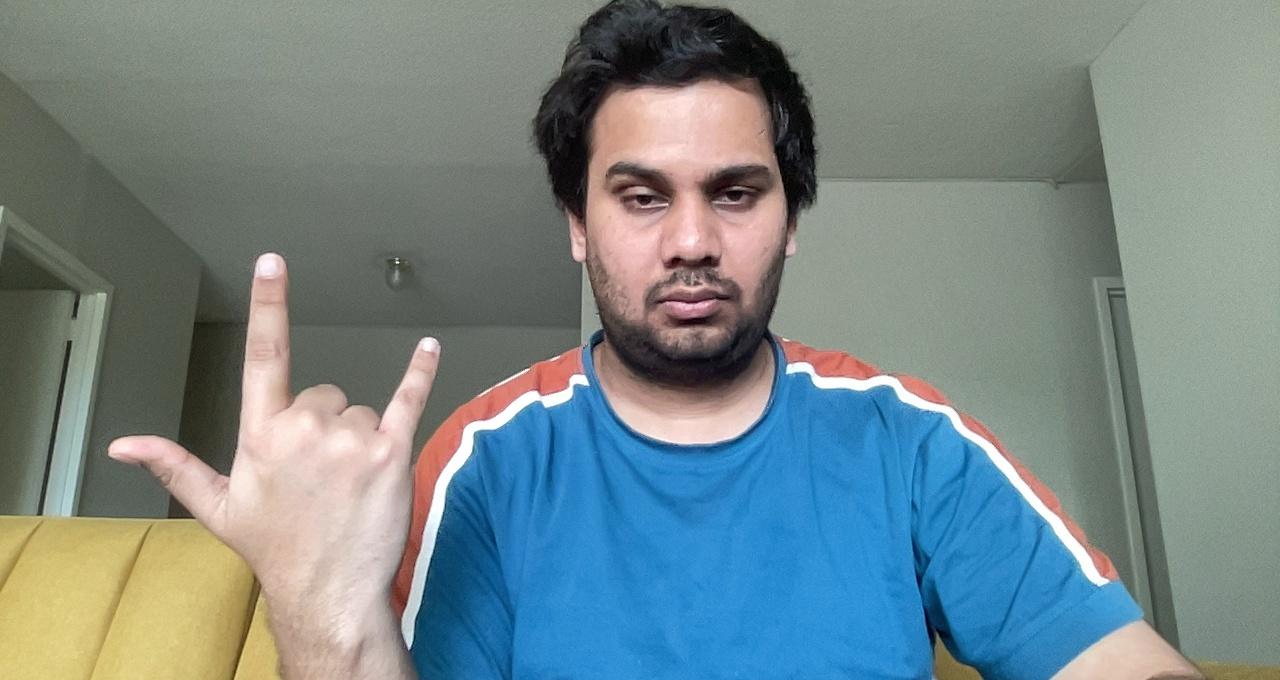rockon sign: (108, 221, 452, 636)
